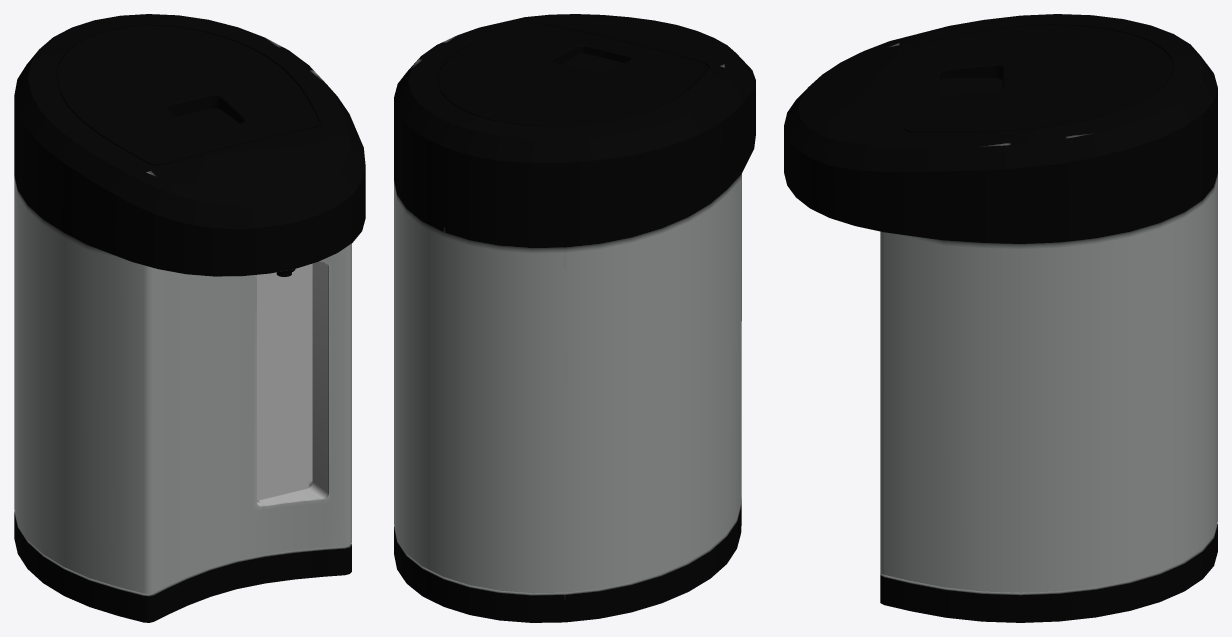
Rendered from model05_hotWaterHeater.glb.
3 views of the same model, side by side, from view 1: azimuth 30°, elevation 25°; view 2: azimuth 150°, elevation 25°; view 3: azimuth 270°, elevation 25° (orthographic). The views are drawn at different scales.
Parts seen in each view (by area): view 1: hotWaterHeater; view 2: hotWaterHeater; view 3: hotWaterHeater.
Boxes of the visible parts, <box> form: hotWaterHeater: <box>14,14,365,622</box>; hotWaterHeater: <box>394,14,755,622</box>; hotWaterHeater: <box>784,14,1217,622</box>.
Size of the model in its own units: 1.33 by 2.12 by 1.72.
1 material, 1 textured.
